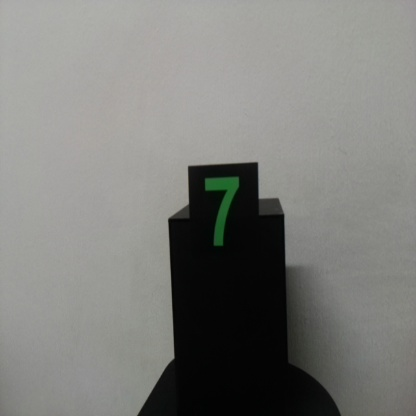id_7: (189, 166, 259, 264)
